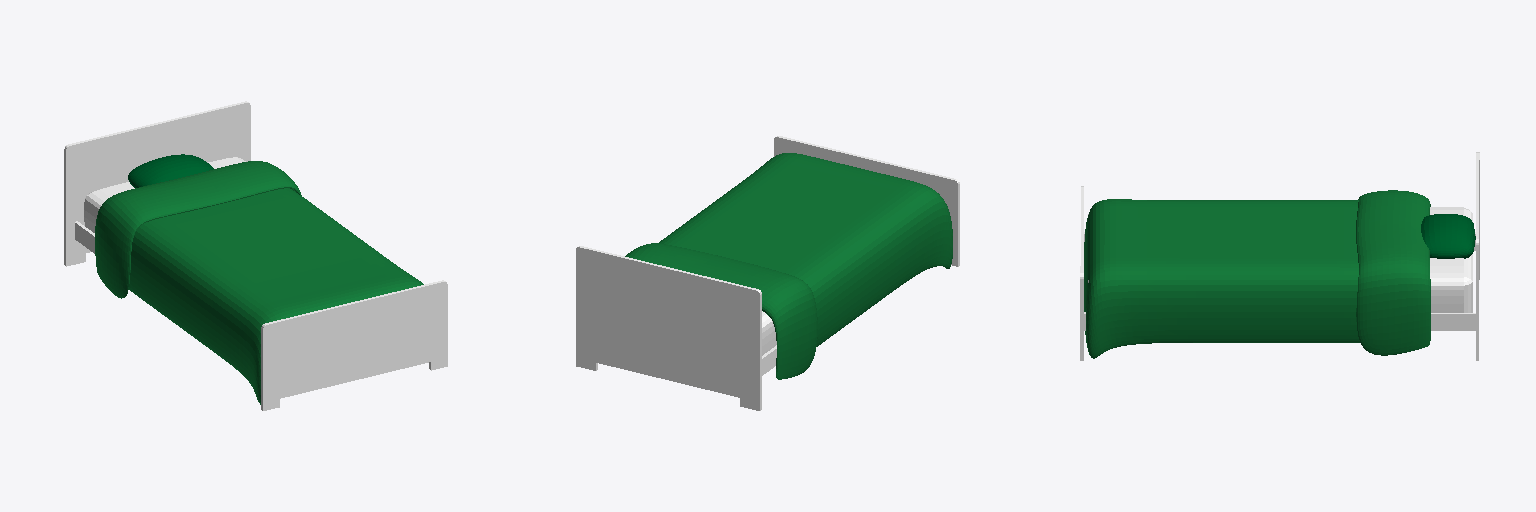
File: myroom_bed.obj
The picture shows the model from 3 angles: view 1: azimuth 30°, elevation 25°; view 2: azimuth 150°, elevation 25°; view 3: azimuth 270°, elevation 25°; orthographic projection.
Visible parts, largest first — view 1: Plane.003_Plane.004, Cube_Cube.001, Cube.010_Cube.011, Plane.004_Plane.005; view 2: Plane.003_Plane.004, Cube_Cube.001; view 3: Plane.003_Plane.004, Cube.010_Cube.011, Plane.004_Plane.005, Cube_Cube.001, Cube.001_Cube.000, Cube.007_Cube.004.
Part boxes in pixels (x1,y1,x2,y2): Plane.003_Plane.004: (95,161,423,404); Cube_Cube.001: (64,101,447,410); Cube.010_Cube.011: (128,154,213,187); Plane.004_Plane.005: (84,157,245,232); Plane.003_Plane.004: (625,153,952,379); Cube_Cube.001: (576,136,959,410); Plane.003_Plane.004: (1084,190,1430,358); Cube.010_Cube.011: (1421,214,1475,258); Plane.004_Plane.005: (1430,207,1463,312); Cube_Cube.001: (1080,152,1479,360); Cube.001_Cube.000: (1084,232,1475,330); Cube.007_Cube.004: (1088,208,1472,312).
Size of the model in its own units: 106 by 65.61 by 198.